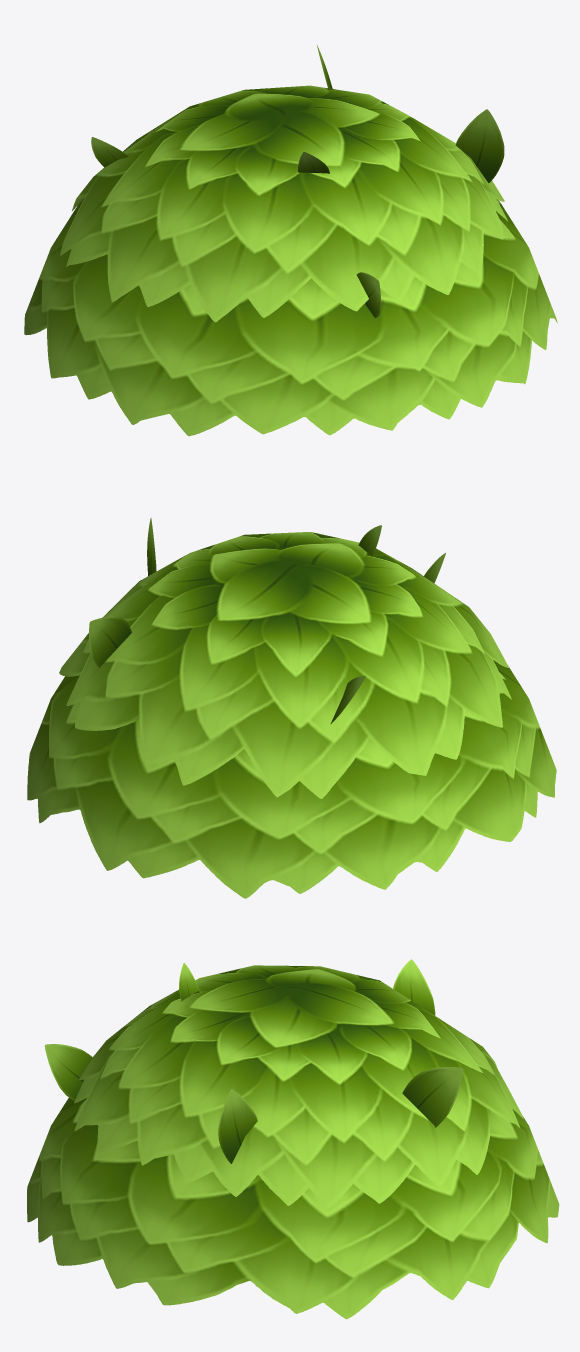
File: Arbusto.fbx
3 renders of one model, top to bottom at view 1: azimuth 30°, elevation 25°; view 2: azimuth 150°, elevation 25°; view 3: azimuth 270°, elevation 25°, orthographic.
Visible parts, largest first — view 1: arbusto; view 2: arbusto; view 3: arbusto.
Boxes of the visible parts, x1=… form: arbusto: x1=24, y1=44, x2=557, y2=436; arbusto: x1=27, y1=517, x2=556, y2=898; arbusto: x1=27, y1=959, x2=559, y2=1319.
Size of the model in its own units: 14.86 by 7.52 by 14.86.
